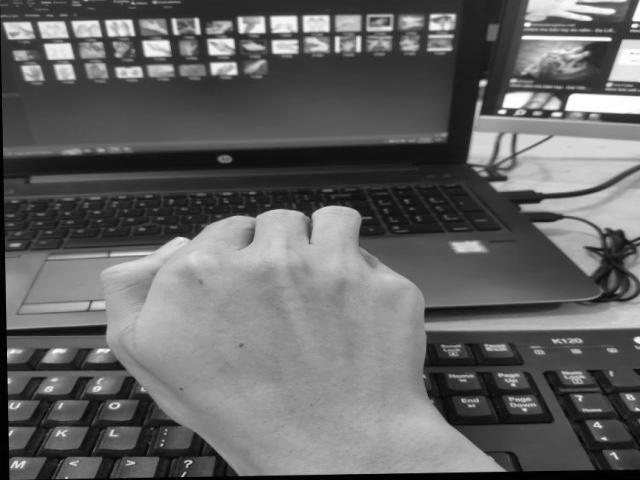not-gloved: (102, 204, 464, 472)
